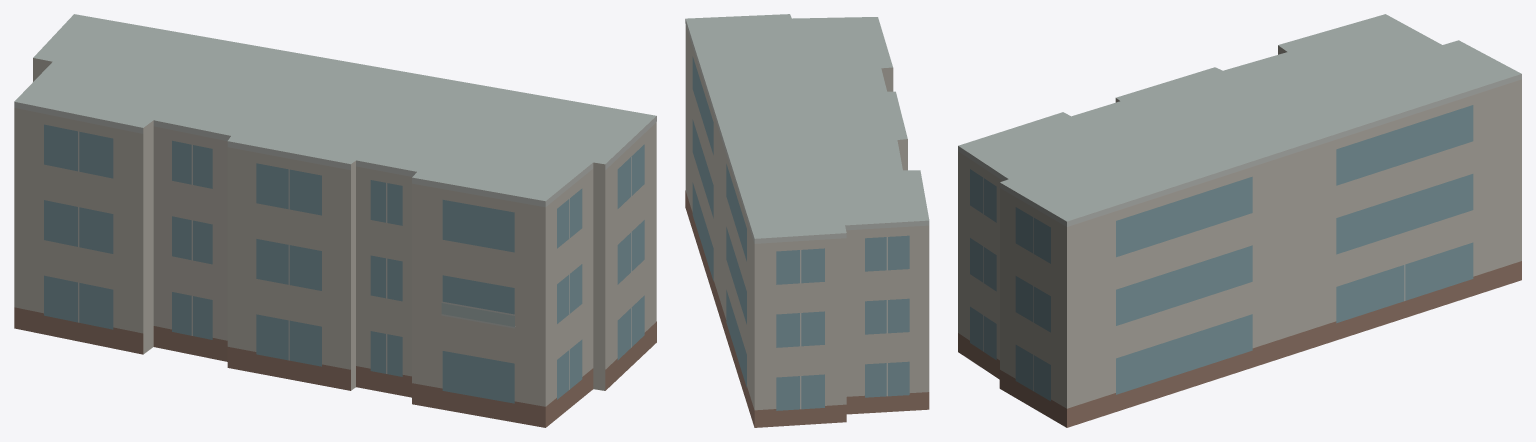
File: survey-upis-33036393.glb
3 renders of one model, left to right at view 1: azimuth 30°, elevation 25°; view 2: azimuth 150°, elevation 25°; view 3: azimuth 270°, elevation 25°, orthographic. The views are drawn at different scales.
Visible parts, largest first — view 1: survey-upis-33036393.tmp; view 2: survey-upis-33036393.tmp; view 3: survey-upis-33036393.tmp.
Boxes of the visible parts, x1,y1,x2,y2 form: survey-upis-33036393.tmp: [14, 14, 656, 427]; survey-upis-33036393.tmp: [685, 14, 929, 427]; survey-upis-33036393.tmp: [958, 14, 1521, 427].
Size of the model in its own units: 19.76 by 9.15 by 22.67.
